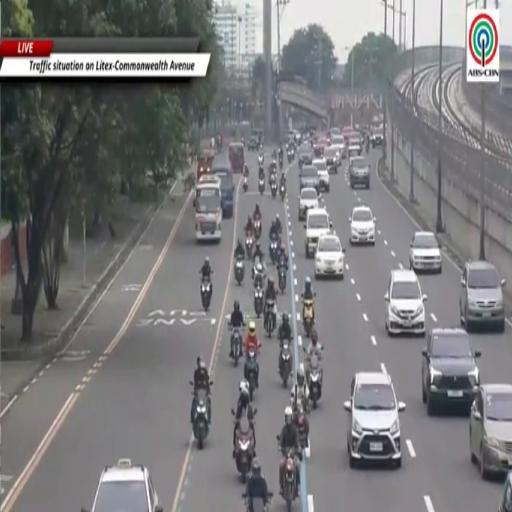bus: (211, 158, 235, 218), (229, 142, 244, 172)
car: (344, 372, 405, 468), (422, 328, 480, 414), (470, 383, 511, 478), (91, 459, 163, 511), (460, 261, 505, 332), (385, 269, 426, 334), (304, 208, 332, 258), (315, 233, 345, 279), (409, 232, 441, 273), (349, 206, 376, 245), (298, 188, 320, 220), (349, 156, 370, 188), (313, 158, 329, 191), (498, 472, 511, 511), (300, 165, 319, 190), (324, 146, 340, 173), (330, 143, 344, 172), (298, 143, 311, 166), (348, 136, 362, 157), (372, 126, 383, 148), (248, 136, 259, 150), (331, 135, 344, 146)
motorcycle: (234, 413, 254, 483), (282, 448, 297, 511), (308, 353, 322, 410), (245, 349, 257, 401), (279, 340, 292, 388), (294, 406, 308, 450), (242, 492, 273, 511), (264, 300, 276, 337), (303, 299, 314, 337), (231, 328, 242, 366), (201, 278, 211, 311), (252, 260, 264, 287), (254, 283, 263, 317), (234, 256, 244, 285), (278, 265, 287, 294), (269, 238, 279, 264), (246, 235, 254, 260), (254, 219, 261, 239), (271, 182, 277, 199), (280, 183, 285, 201), (259, 179, 264, 195), (243, 176, 248, 191), (279, 154, 283, 170), (258, 155, 263, 167), (291, 147, 295, 161), (288, 151, 292, 163), (259, 164, 263, 174), (366, 140, 369, 153), (190, 381, 193, 386)
truck: (194, 174, 223, 241), (197, 149, 214, 182)
